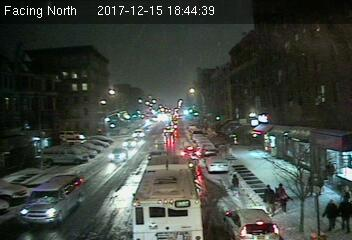bus: (133, 155, 208, 240)
car: (223, 208, 282, 240), (207, 156, 230, 173), (109, 148, 130, 162), (181, 146, 200, 157), (123, 138, 138, 147)
pedestrian: (337, 194, 352, 233), (323, 197, 338, 234), (262, 184, 276, 215), (275, 182, 288, 211), (230, 172, 241, 197)
truck: (21, 172, 86, 227)
